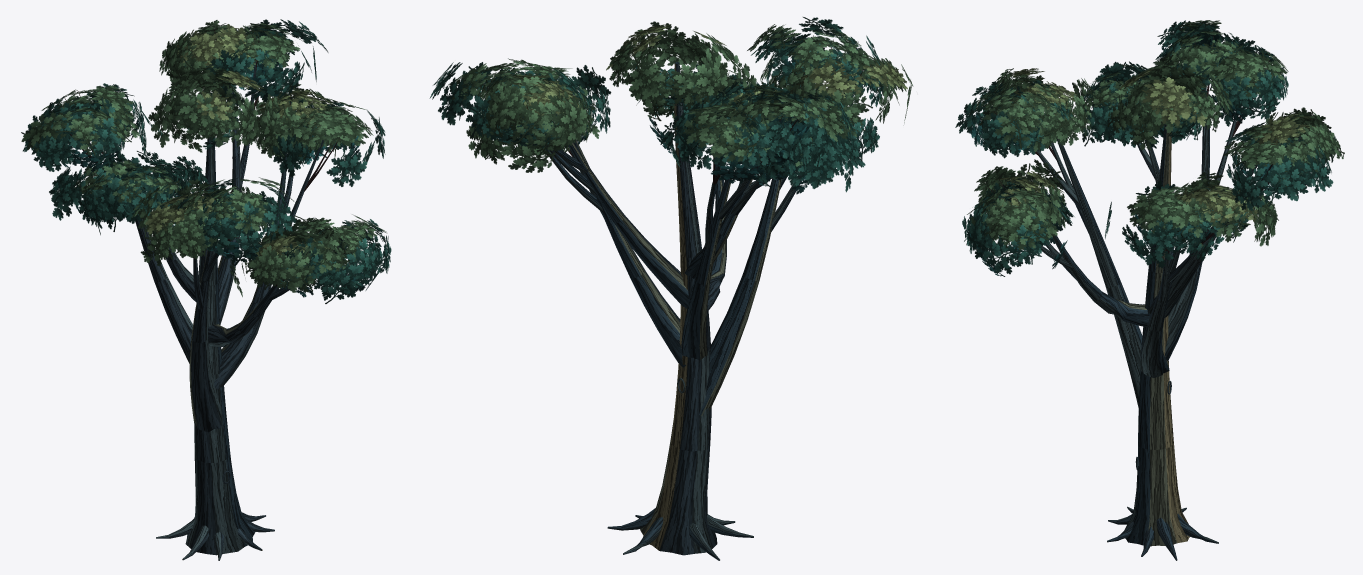
Rendered from branching_oak.glb.
The picture shows the model from 3 angles, left to right: view 1: azimuth 30°, elevation 25°; view 2: azimuth 150°, elevation 25°; view 3: azimuth 270°, elevation 25°; orthographic projection. The views are drawn at different scales.
Visible parts, largest first — view 1: branching_oak; view 2: branching_oak; view 3: branching_oak.
Part boxes in pixels (box(x1,y1,x2,y2)): branching_oak: box(21, 19, 391, 560); branching_oak: box(429, 17, 913, 560); branching_oak: box(955, 20, 1344, 560).
Bounding box in the file's own units: 11.06 × 14.3 × 11.11.
2 materials, 2 textured.
